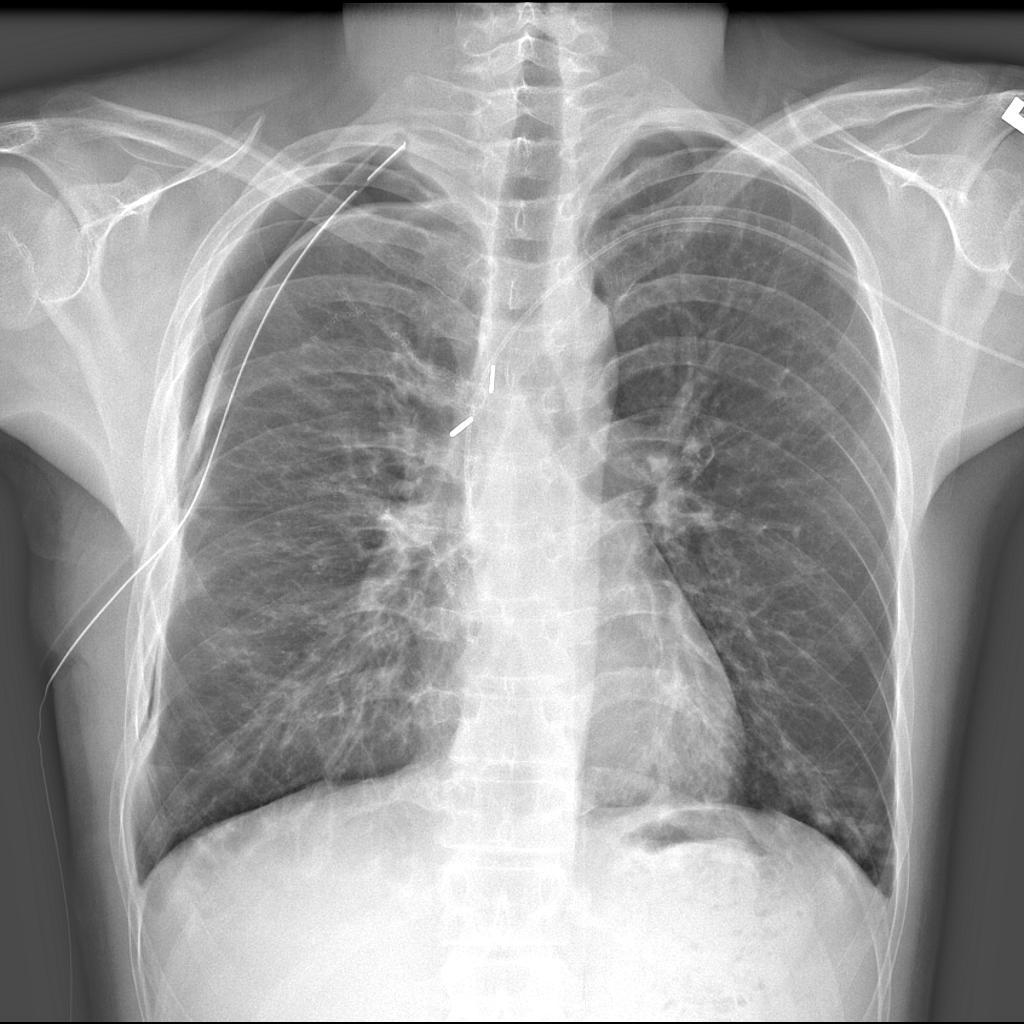Nodule: (810, 804, 842, 844)
